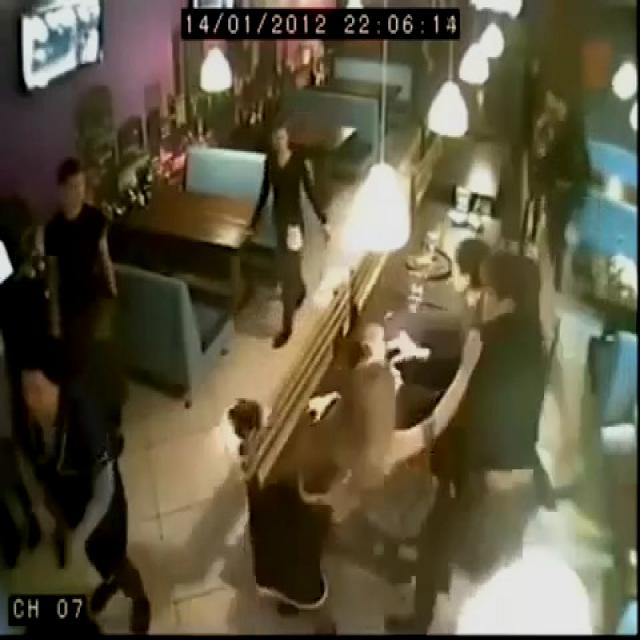fight: (406, 166, 548, 450)
